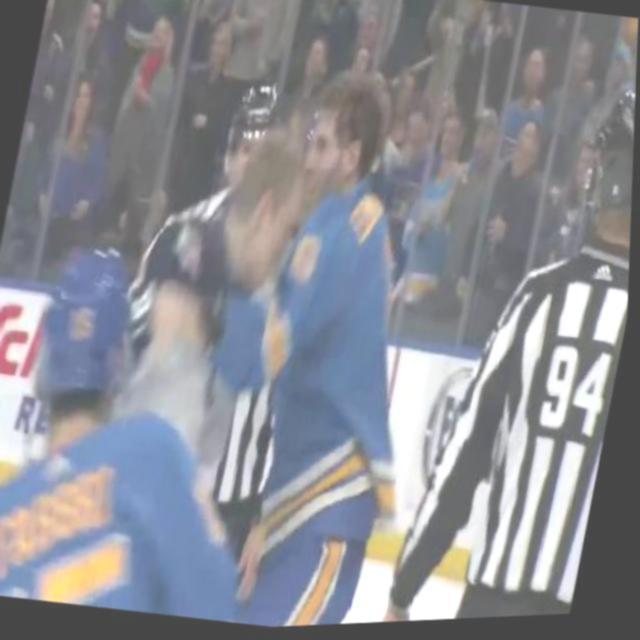fight: (88, 39, 470, 564)
